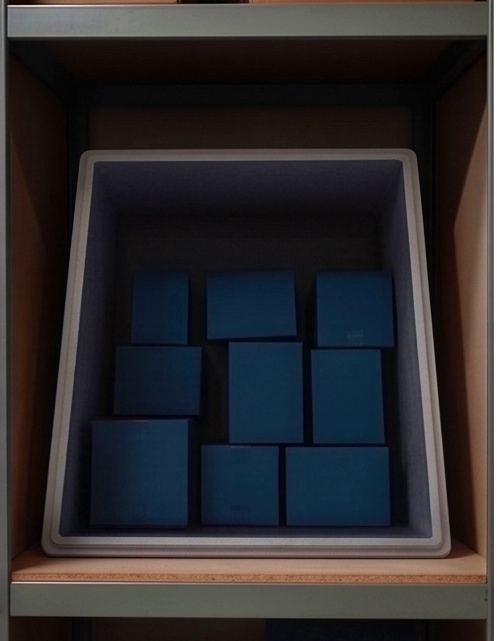blue_box: (91, 418, 199, 528), (286, 446, 395, 531), (229, 339, 305, 447), (315, 346, 390, 444), (114, 345, 206, 417), (316, 272, 400, 349), (201, 446, 279, 528), (207, 272, 299, 339), (130, 271, 190, 346)
container_box: (42, 149, 454, 557)
